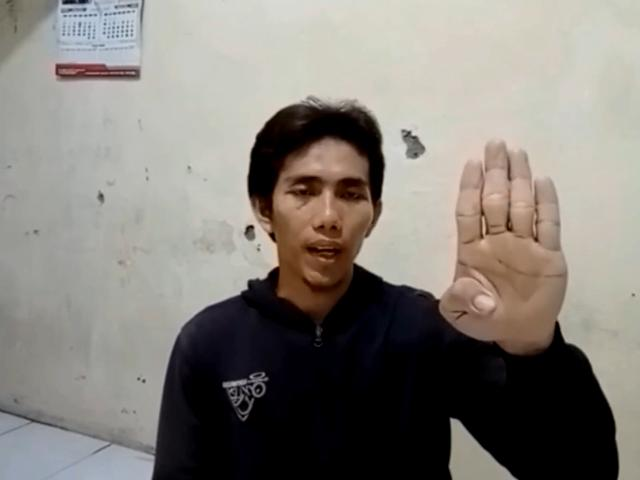B: (438, 136, 570, 346)
